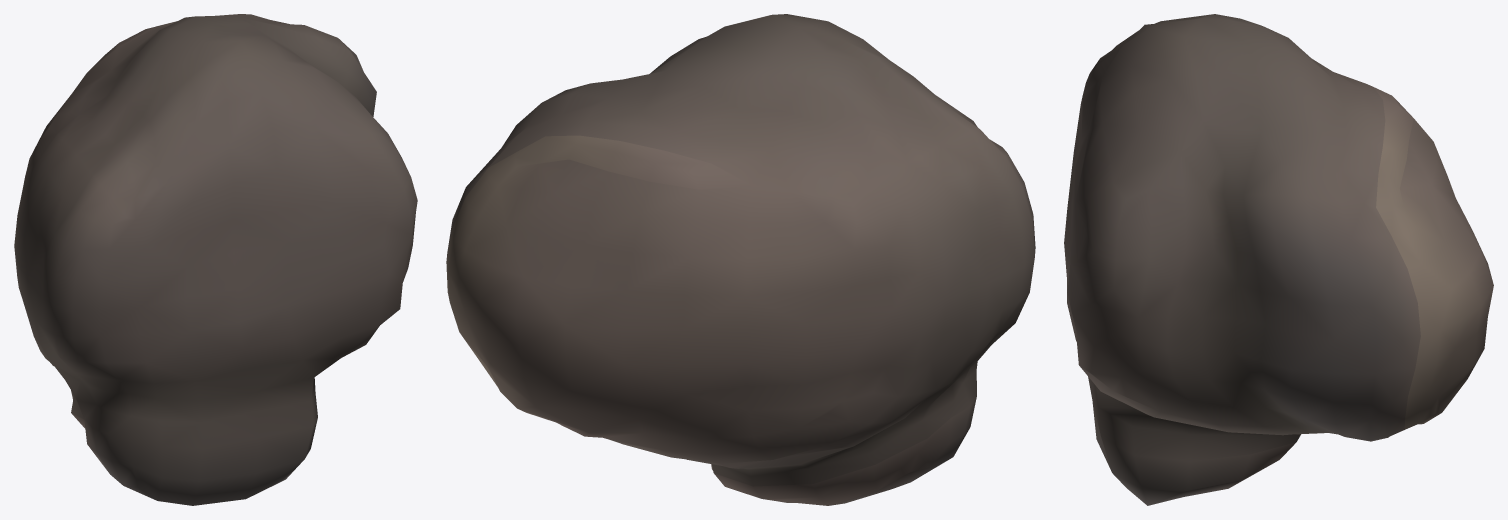
File: RockLarge.009.glb
The picture shows the model from 3 angles, left to right: view 1: azimuth 30°, elevation 25°; view 2: azimuth 150°, elevation 25°; view 3: azimuth 270°, elevation 25°; orthographic projection. The views are drawn at different scales.
Parts seen in each view (by area): view 1: RockLarge.009; view 2: RockLarge.009; view 3: RockLarge.009.
Boxes of the visible parts, <box> form: RockLarge.009: <box>14,14,417,505</box>; RockLarge.009: <box>446,14,1035,505</box>; RockLarge.009: <box>1064,14,1493,505</box>.
Size of the model in its own units: 971 by 985 by 828.
